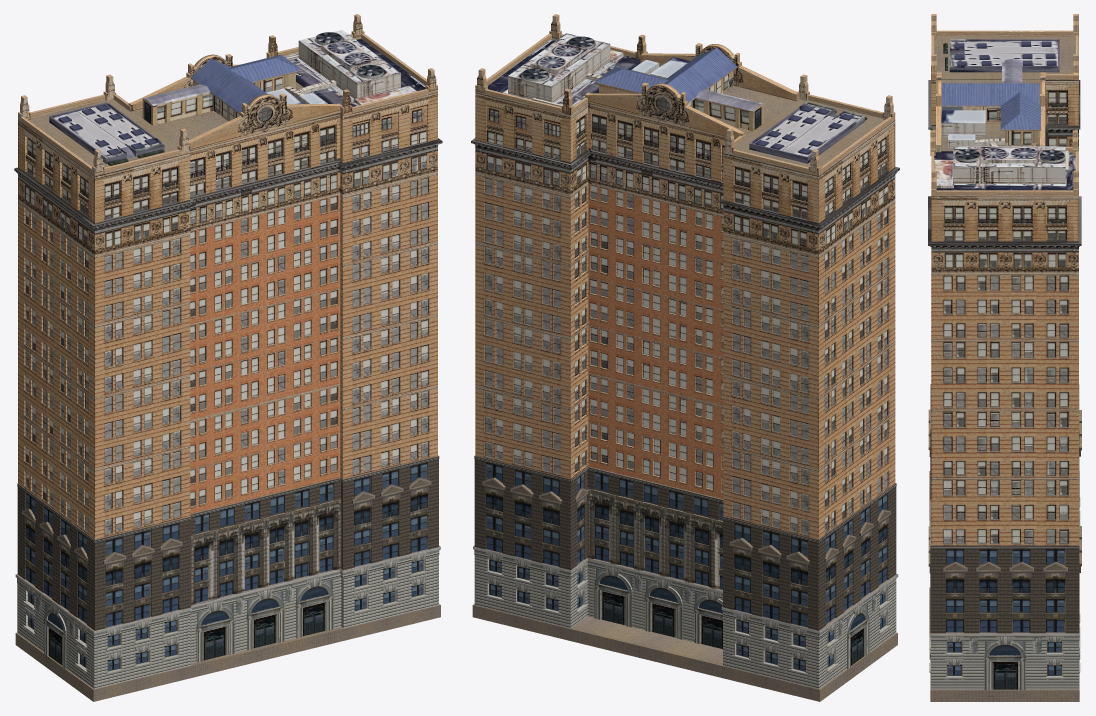
3 views of the same model, side by side, from view 1: azimuth 30°, elevation 25°; view 2: azimuth 150°, elevation 25°; view 3: azimuth 270°, elevation 25° (orthographic). The views are drawn at different scales.
Visible parts, largest first — view 1: West_2, Cube_0, East_3, Cube.001_1; view 2: West_2, Cube_0, East_3, Cube.001_1; view 3: East_3, West_2, Cube_0, Cube.001_1.
Boxes of the visible parts, left/top/right/bottom form: West_2: left=15, top=74, right=192, bottom=701; Cube_0: left=128, top=54, right=343, bottom=677; East_3: left=266, top=14, right=440, bottom=640; Cube.001_1: left=14, top=124, right=442, bottom=229; West_2: left=721, top=74, right=898, bottom=701; Cube_0: left=570, top=43, right=799, bottom=677; East_3: left=472, top=14, right=647, bottom=640; Cube.001_1: left=471, top=124, right=899, bottom=228; East_3: left=928, top=130, right=1081, bottom=701; West_2: left=928, top=14, right=1081, bottom=526; Cube_0: left=936, top=59, right=1079, bottom=587; Cube.001_1: left=928, top=80, right=1081, bottom=247.
Bounding box in the file's own units: 60.36 × 92.56 × 23.95.
Materials: 5 (5 with a texture image).
